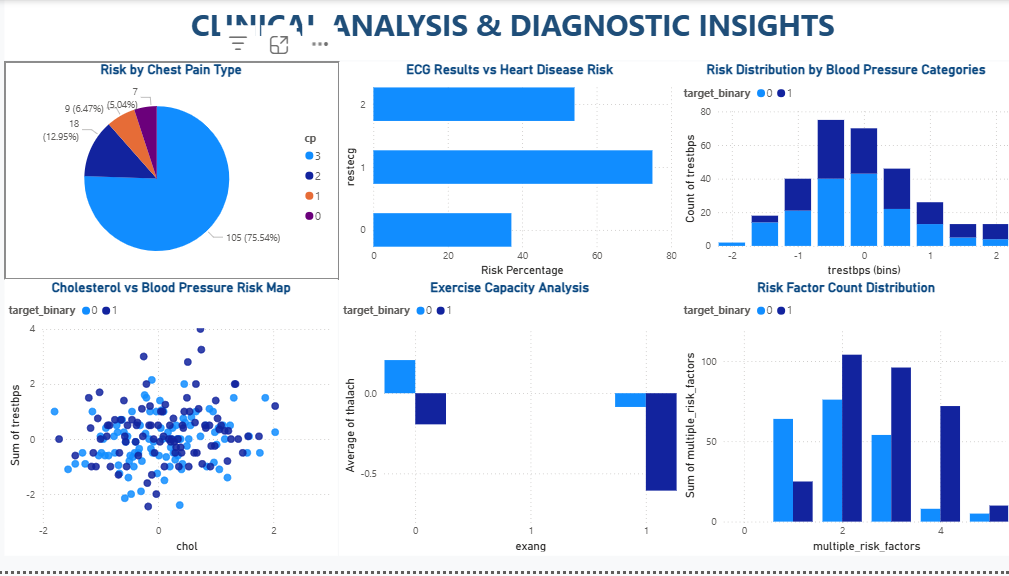

The dashboard page shown, as its layout file describes it:
{"tool":"powerbi","page":{"name":"Clinical Analysis","canvas":[1280,720],"ordinal":1},"visuals":[{"type":"textbox","box":[9.9,0,1270.5,76.2],"z":0},{"type":"pieChart","title":"Risk by Chest Pain Type","fields":{"Category":["heart_disease_preprocessed.cp"],"Y":["Sum(heart_disease_preprocessed.target_binary)"]},"box":[10,76.7,420,275],"z":1000},{"type":"columnChart","title":"Risk Distribution by Blood Pressure Categories","fields":{"Series":["heart_disease_preprocessed.target_binary"],"Y":["CountNonNull(heart_disease_preprocessed.trestbps)"],"Category":["heart_disease_preprocessed.trestbps (bins)"]},"box":[860,76.7,420,275],"z":2000},{"type":"clusteredBarChart","title":"ECG Results vs Heart Disease Risk","fields":{"Category":["heart_disease_preprocessed.restecg"],"Y":["heart_disease_preprocessed.Risk Percentage"]},"box":[430,76.7,430,275],"z":3000},{"type":"scatterChart","title":"Cholesterol vs Blood Pressure Risk Map","fields":{"X":["heart_disease_preprocessed.chol"],"Y":["Sum(heart_disease_preprocessed.trestbps)"],"Series":["heart_disease_preprocessed.target_binary"]},"box":[10,351.7,420,348.3],"z":4000},{"type":"clusteredColumnChart","title":"Exercise Capacity Analysis","fields":{"Category":["heart_disease_preprocessed.exang"],"Y":["Avg(heart_disease_preprocessed.thalach)"],"Series":["heart_disease_preprocessed.target_binary"]},"box":[430,351.7,430,348.3],"z":5000},{"type":"clusteredColumnChart","title":"Risk Factor Count Distribution","fields":{"Y":["Sum(heart_disease_preprocessed.multiple_risk_factors)"],"Category":["heart_disease_preprocessed.multiple_risk_factors"],"Series":["heart_disease_preprocessed.target_binary"]},"box":[860,351.7,420,348.3],"z":5001}]}

Visuals, with their boxes on the page's 1280x720 design canvas (x1, y1, x2, y2). These are canvas units, not pixel positions in the 1009x576 screenshot, which may show the page scaled, cropped or inside an application window:
textbox: <bbox>10, 0, 1280, 76</bbox>
"Risk by Chest Pain Type" pieChart: <bbox>10, 77, 430, 352</bbox>
"Risk Distribution by Blood Pressure Categories" columnChart: <bbox>860, 77, 1280, 352</bbox>
"ECG Results vs Heart Disease Risk" clusteredBarChart: <bbox>430, 77, 860, 352</bbox>
"Cholesterol vs Blood Pressure Risk Map" scatterChart: <bbox>10, 352, 430, 700</bbox>
"Exercise Capacity Analysis" clusteredColumnChart: <bbox>430, 352, 860, 700</bbox>
"Risk Factor Count Distribution" clusteredColumnChart: <bbox>860, 352, 1280, 700</bbox>
